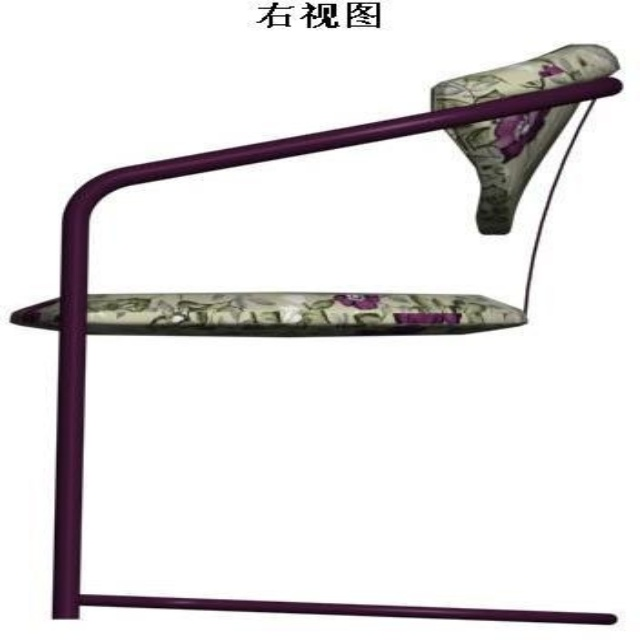obstacle: (53, 74, 620, 623), (431, 45, 618, 109)
